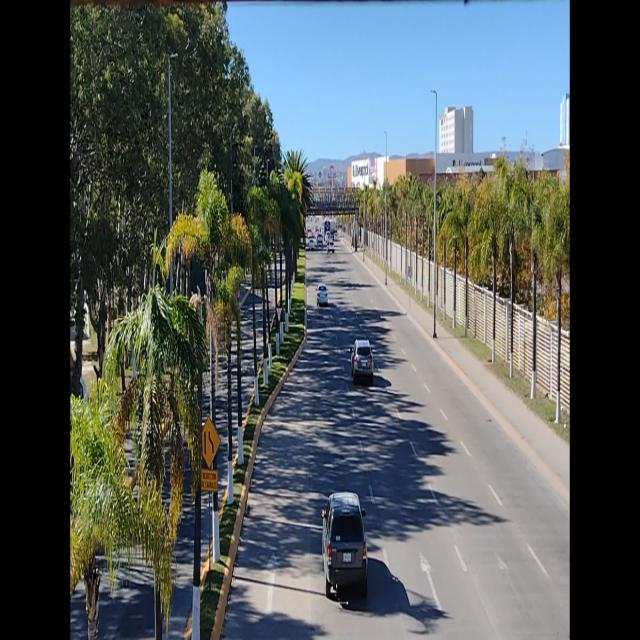Auto: (322, 490, 370, 606), (350, 338, 374, 387), (312, 283, 330, 310)
